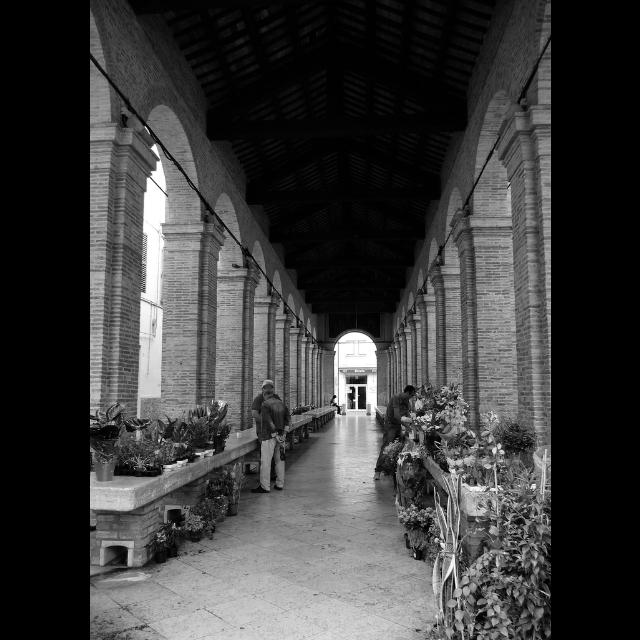Flower: (398, 506, 440, 530)
